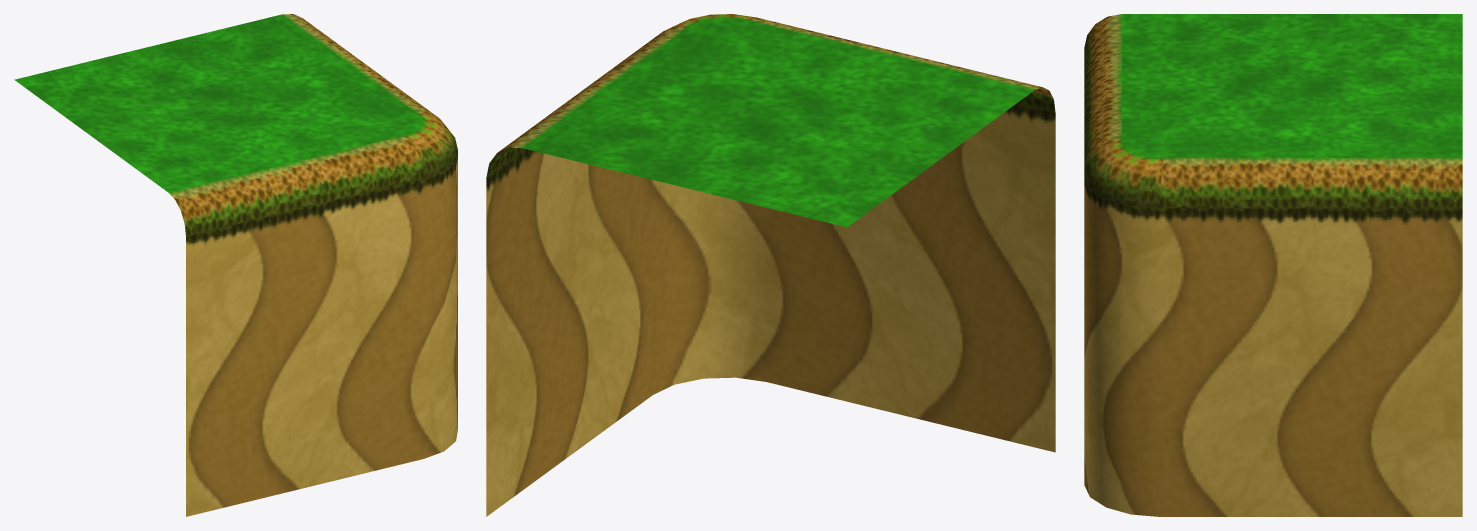
Rendered from Corner_Top_Outwards.fbx.
The picture shows the model from 3 angles, left to right: view 1: azimuth 30°, elevation 25°; view 2: azimuth 150°, elevation 25°; view 3: azimuth 270°, elevation 25°; orthographic projection. The views are drawn at different scales.
Parts seen in each view (by area): view 1: Txt_Corner_Top_Outwards; view 2: Txt_Corner_Top_Outwards; view 3: Txt_Corner_Top_Outwards.
Boxes of the visible parts, x1,y1,x2,y2 form: Txt_Corner_Top_Outwards: (14,14,457,516); Txt_Corner_Top_Outwards: (486,14,1055,516); Txt_Corner_Top_Outwards: (1084,14,1462,516).
Bounding box in the file's own units: 200 × 200 × 200.
